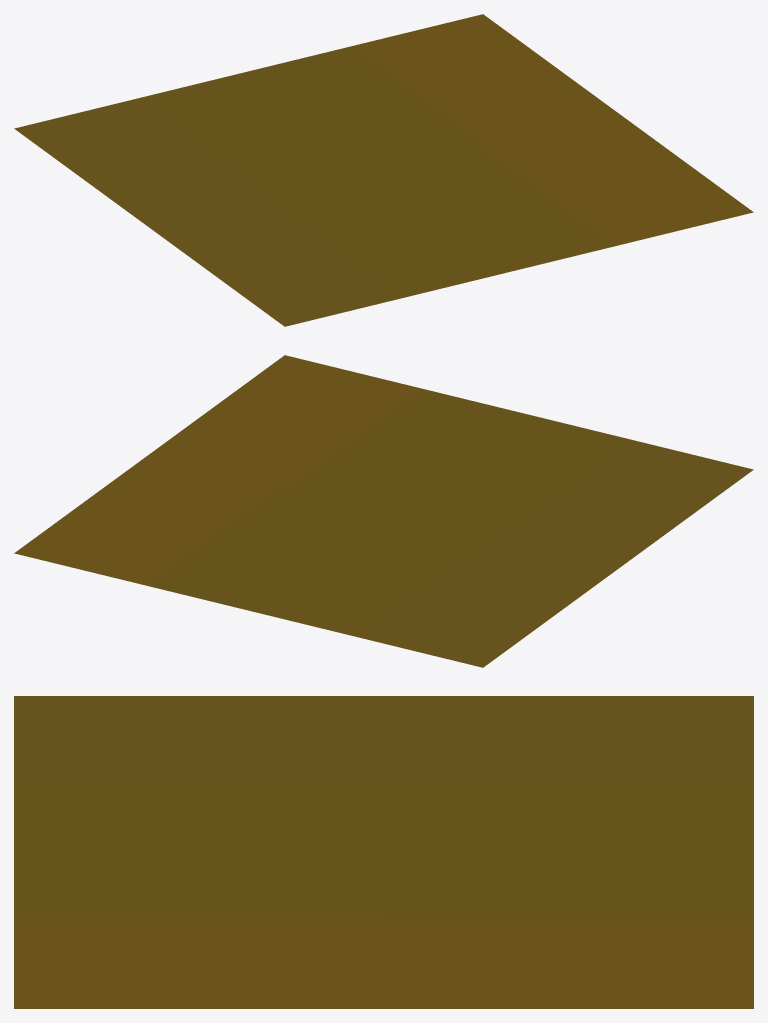
File: Floor_BR.glb
3 renders of one model, top to bottom at view 1: azimuth 30°, elevation 25°; view 2: azimuth 150°, elevation 25°; view 3: azimuth 270°, elevation 25°, orthographic. The views are drawn at different scales.
Parts seen in each view (by area): view 1: Plane; view 2: Plane; view 3: Plane.
Boxes of the visible parts, left/top/right/bottom form: Plane: left=14, top=14, right=753, bottom=326; Plane: left=14, top=355, right=753, bottom=667; Plane: left=14, top=696, right=753, bottom=1008.
Bounding box in the file's own units: 4 × 0 × 4.
1 material, 1 textured.
